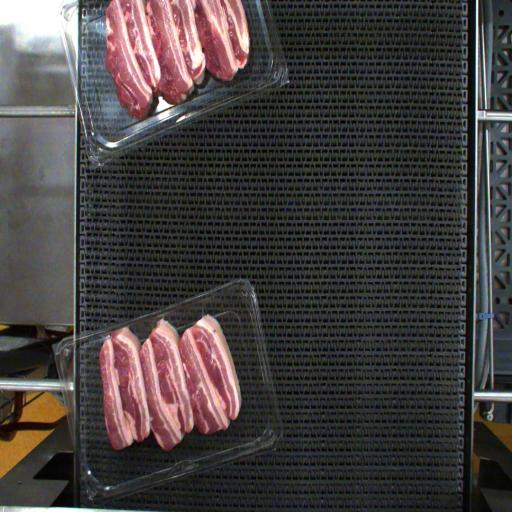packaging-error: (98, 316, 134, 340)
